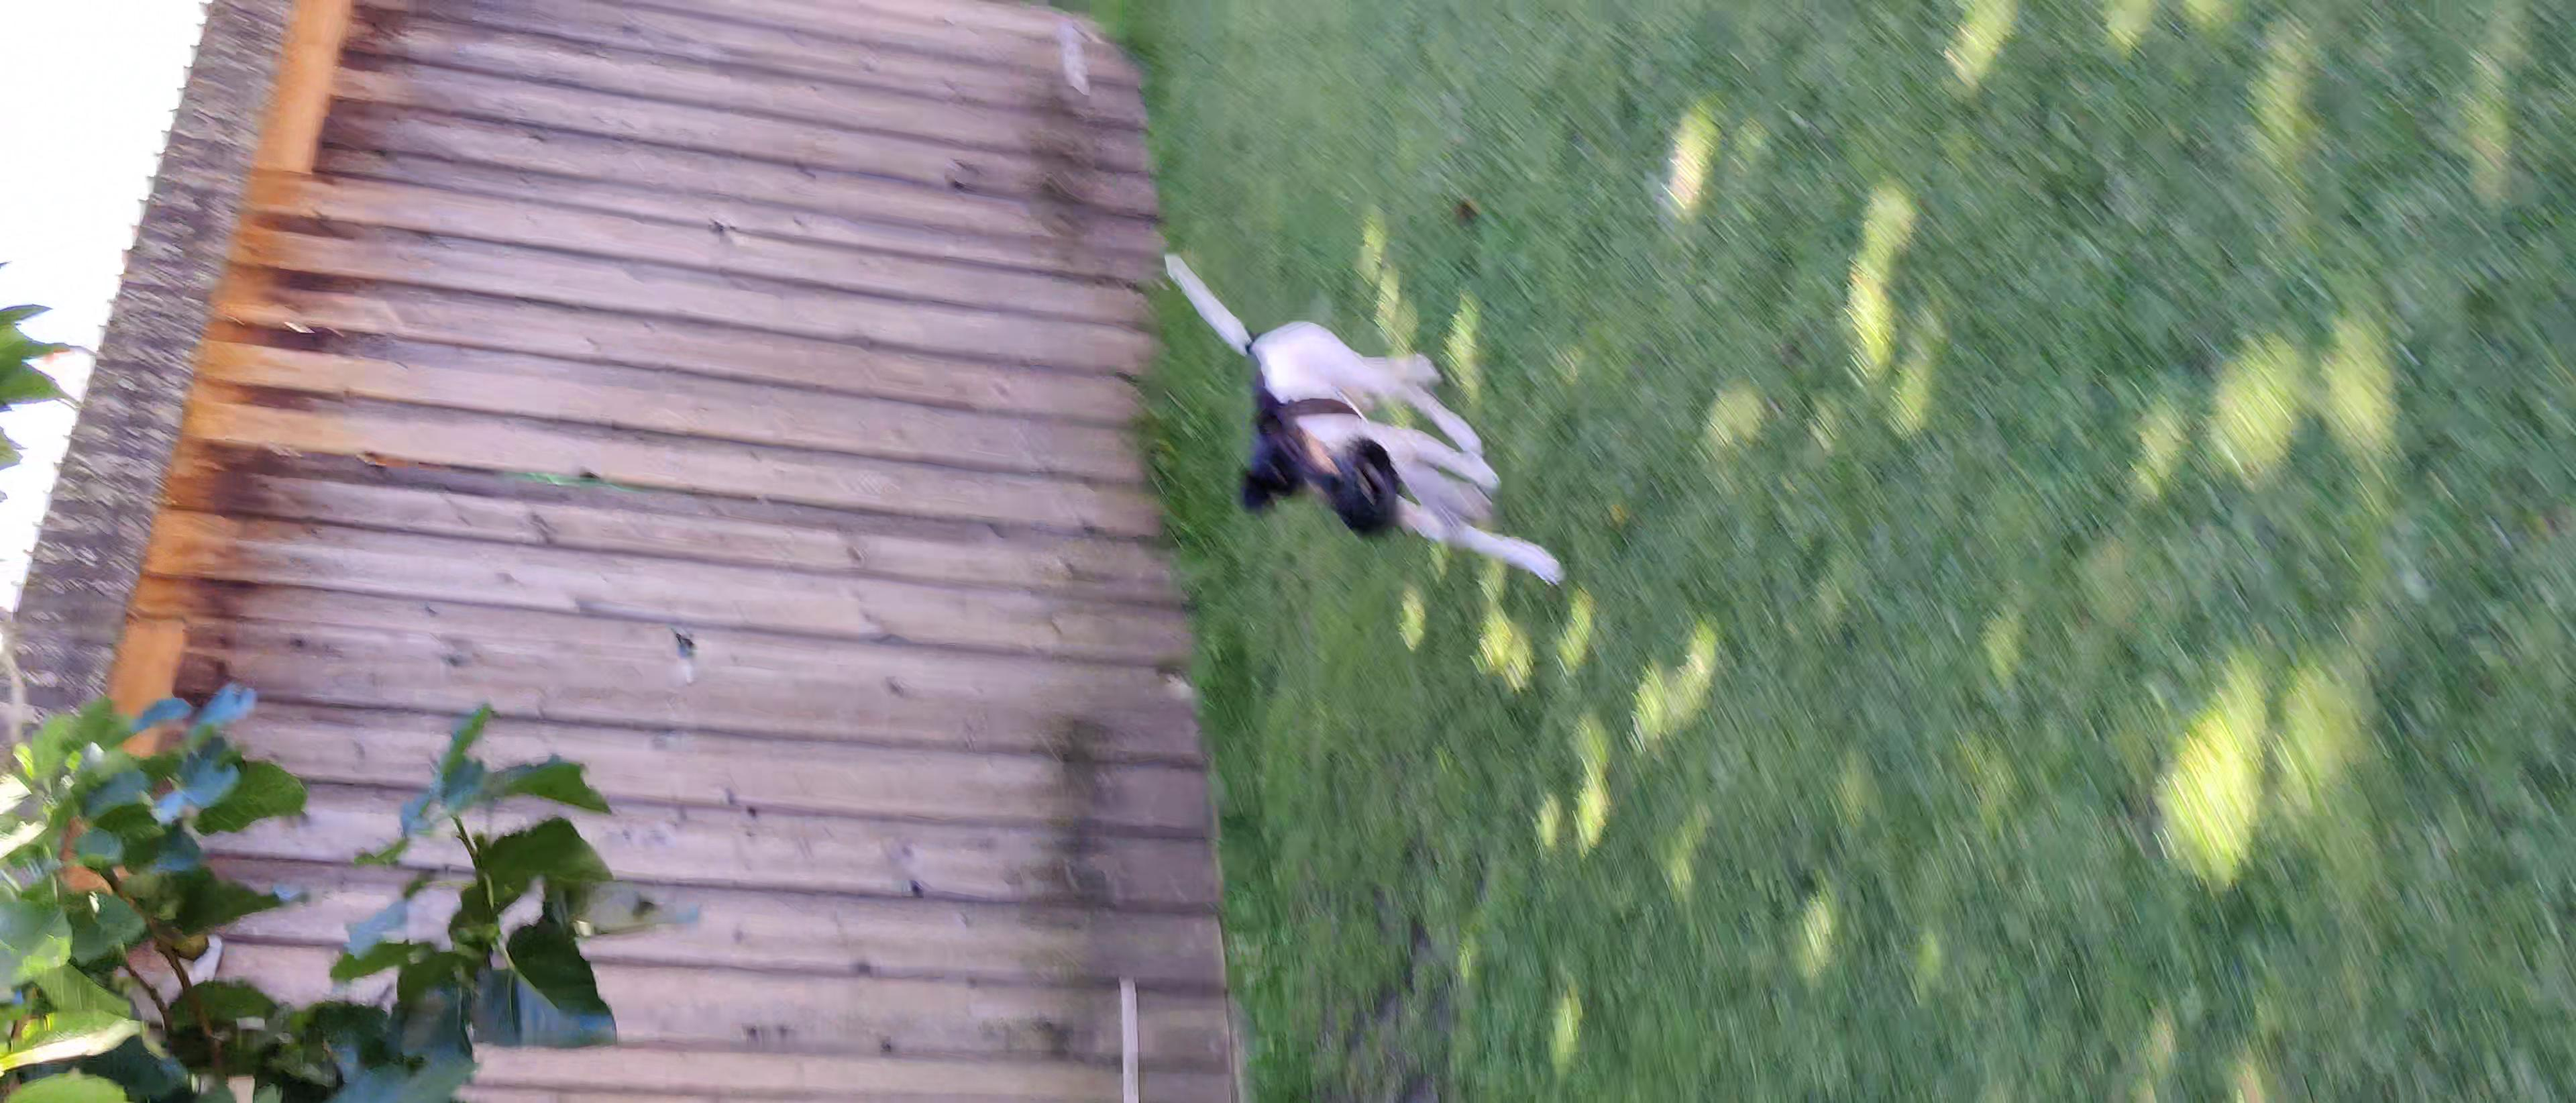Dog: (1157, 240, 1574, 597)
